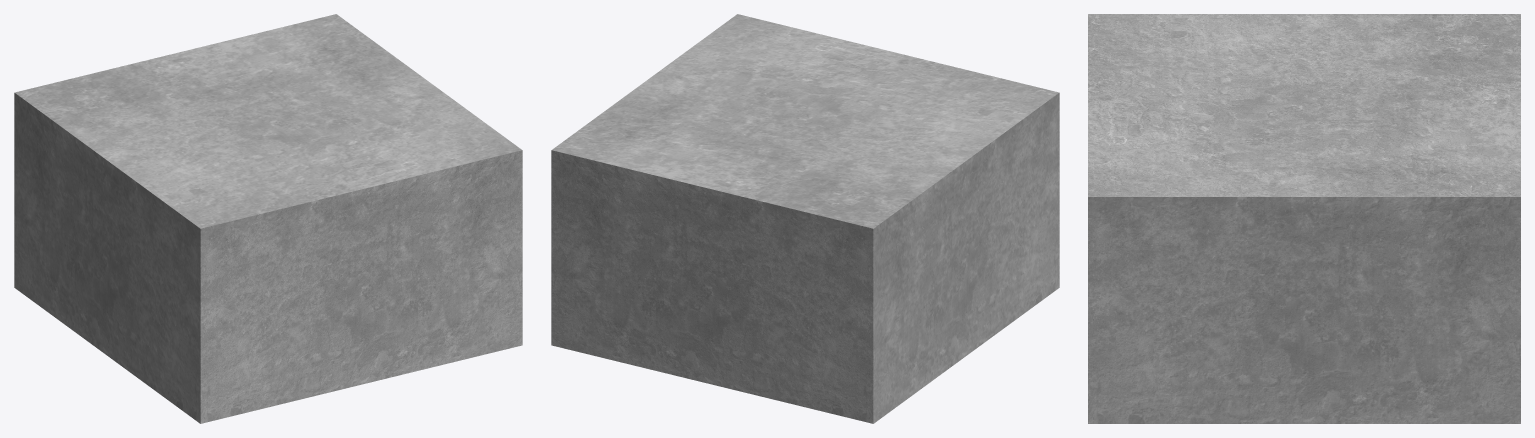
The model's file is StairBlock.fbx.
3 views of the same model, side by side, from view 1: azimuth 30°, elevation 25°; view 2: azimuth 150°, elevation 25°; view 3: azimuth 270°, elevation 25° (orthographic). The views are drawn at different scales.
Parts seen in each view (by area): view 1: Cube.015; view 2: Cube.015; view 3: Cube.015.
Boxes of the visible parts, x1,y1,x2,y2 form: Cube.015: (14, 14, 522, 423); Cube.015: (551, 14, 1059, 423); Cube.015: (1088, 14, 1520, 423).
Bounding box in the file's own units: 123 × 71.51 × 124.
